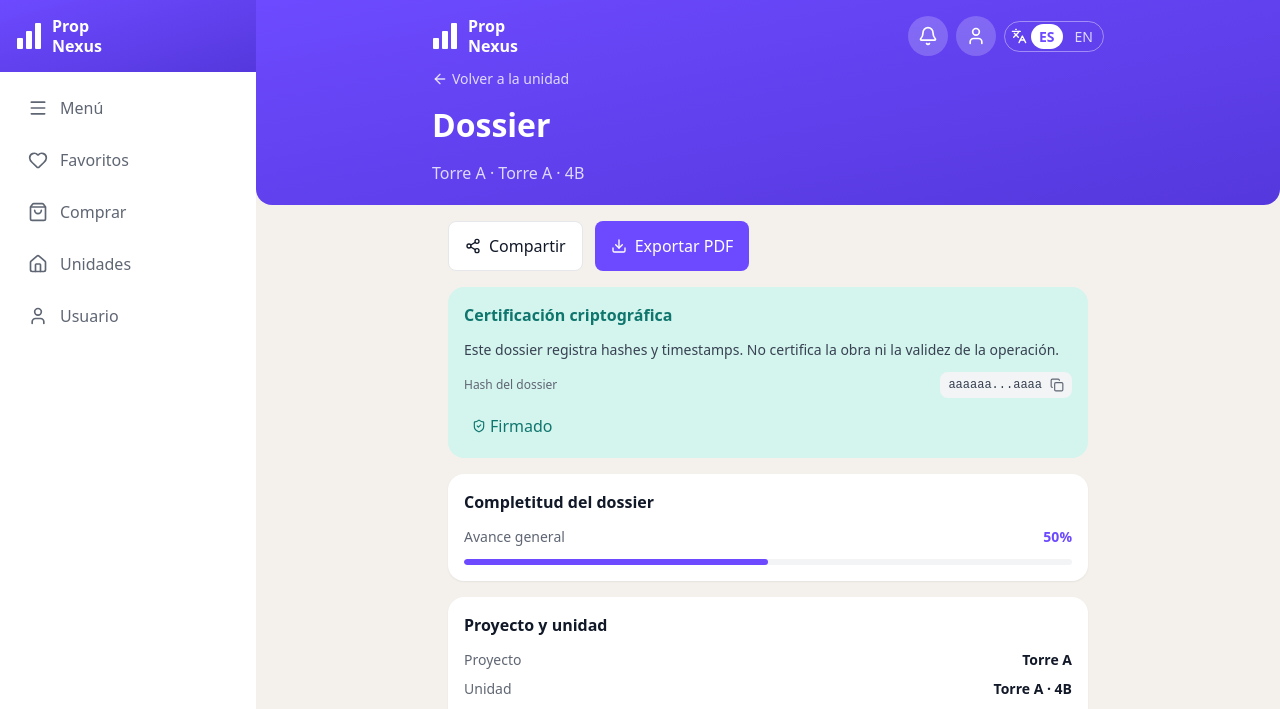
Test: /investor/unit/$unitId/dossier › el modal de compartir se cierra con Escape
The image size is (1280, 709).
Step 1. Click the button "Compartir" → [515, 246], box [448,221,583,271]
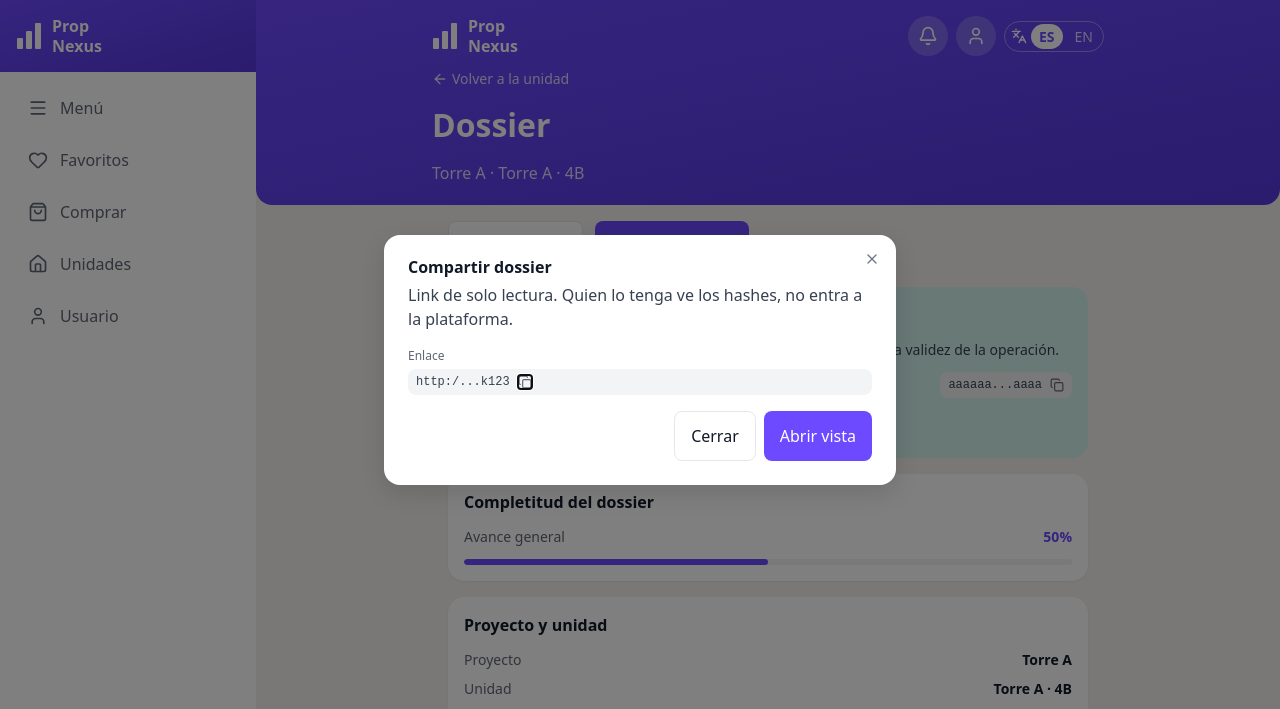
Expected: the dialog with test id "INV-DOSSIER-SHARE-001" is shown, [384,235,896,485]
Step 2. Press Escape in the button named "Copiar", box [518,375,532,389]
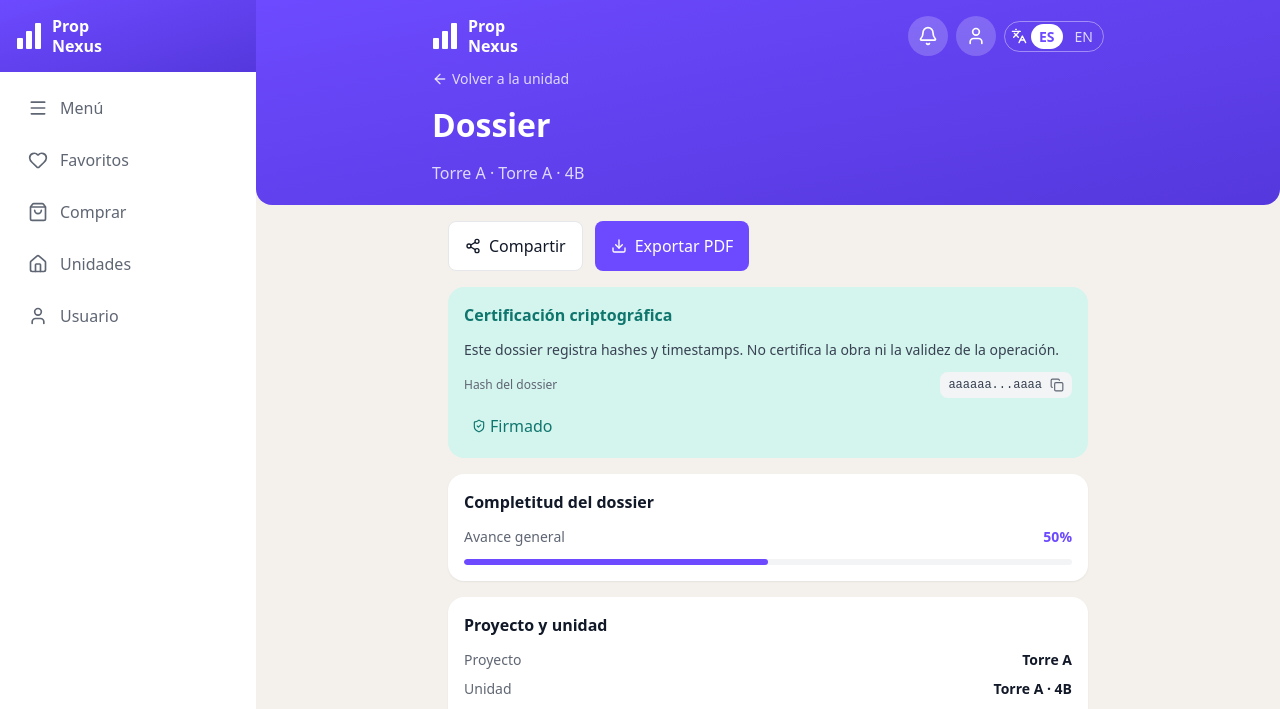
Expected: the dialog with test id "INV-DOSSIER-SHARE-001" is gone
